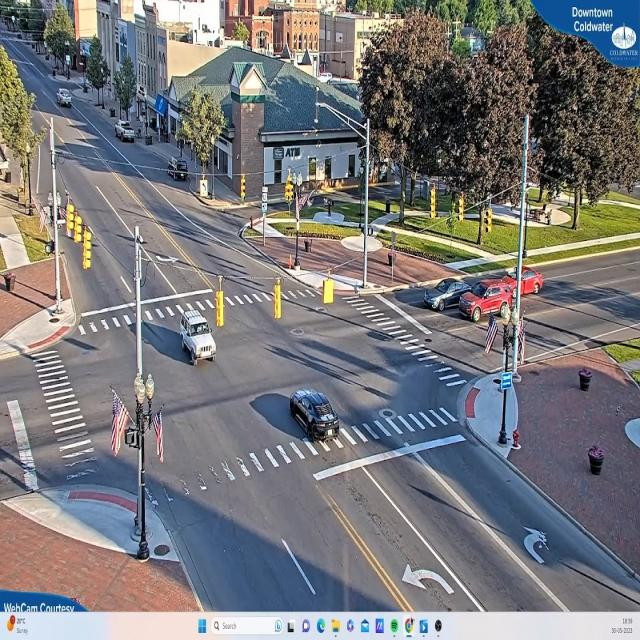car: (290, 388, 342, 441), (178, 307, 218, 370), (460, 277, 516, 321), (424, 278, 476, 314), (508, 258, 544, 297), (117, 121, 138, 143)
